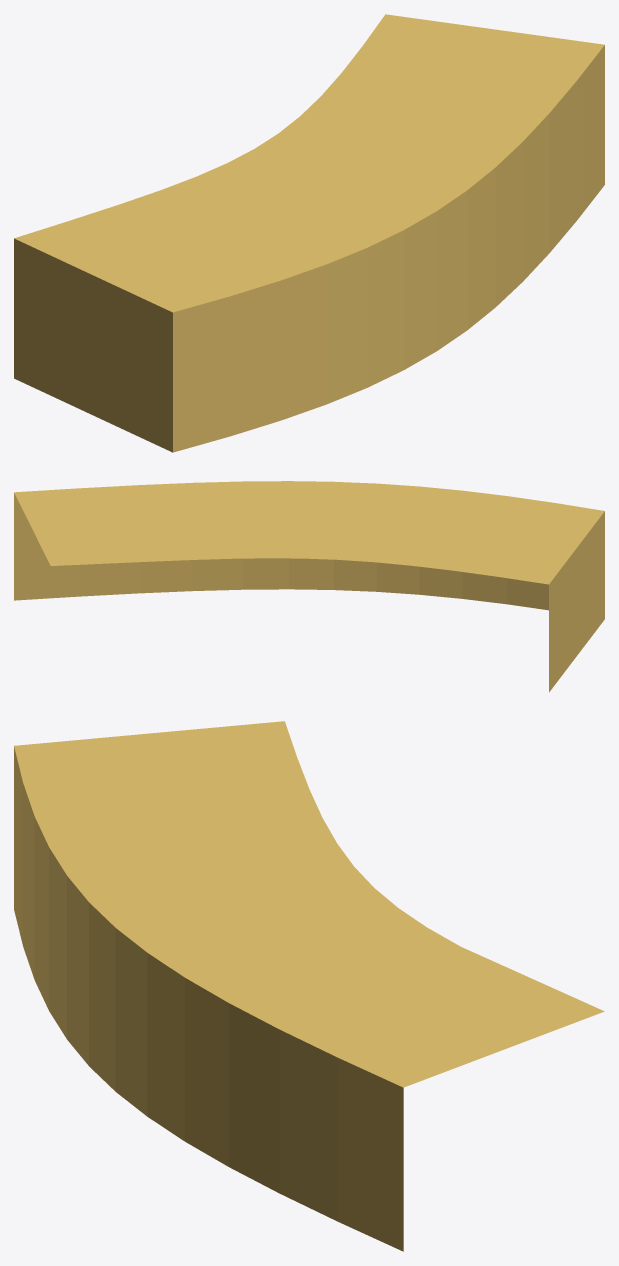
The model's file is 1-platform.fbx.
3 views of the same model, one above another, from view 1: azimuth 30°, elevation 25°; view 2: azimuth 150°, elevation 25°; view 3: azimuth 270°, elevation 25° (orthographic). The views are drawn at different scales.
Visible parts, largest first — view 1: horizontal platform.001; view 2: horizontal platform.001; view 3: horizontal platform.001.
Part boxes in pixels (x1,y1,x2,y2): horizontal platform.001: (14, 14, 604, 452); horizontal platform.001: (14, 481, 604, 692); horizontal platform.001: (14, 721, 604, 1251).
Size of the model in its own units: 390 by 84.47 by 266.
